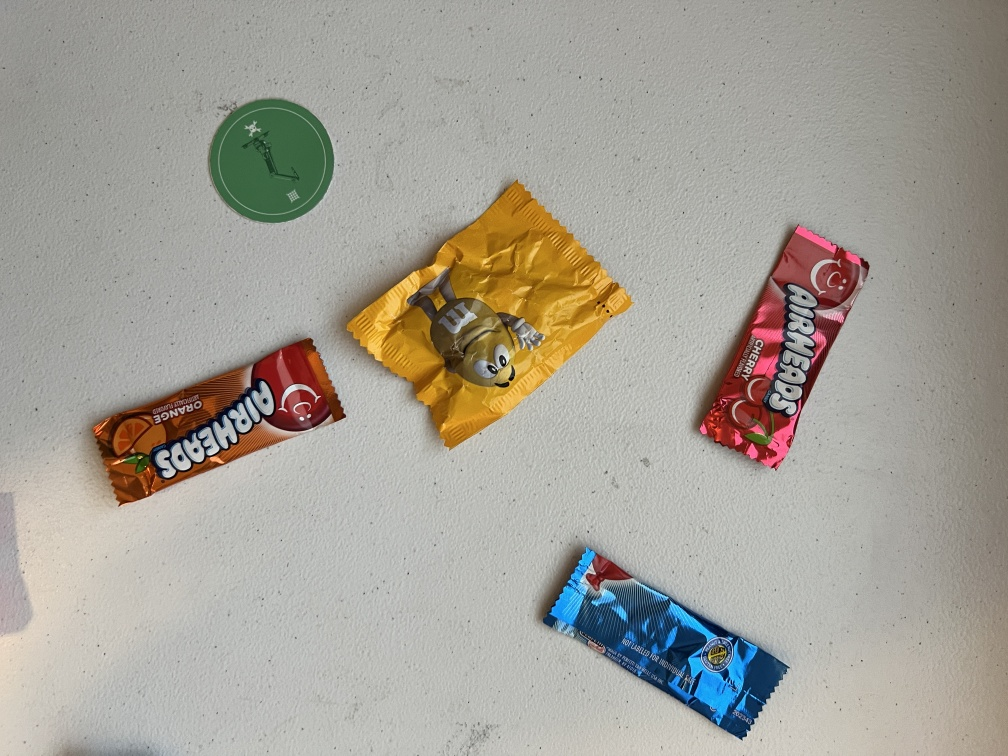MMs_regular: (349, 177, 655, 447)
airheads: (521, 544, 796, 737), (84, 335, 347, 514), (714, 198, 871, 469)
